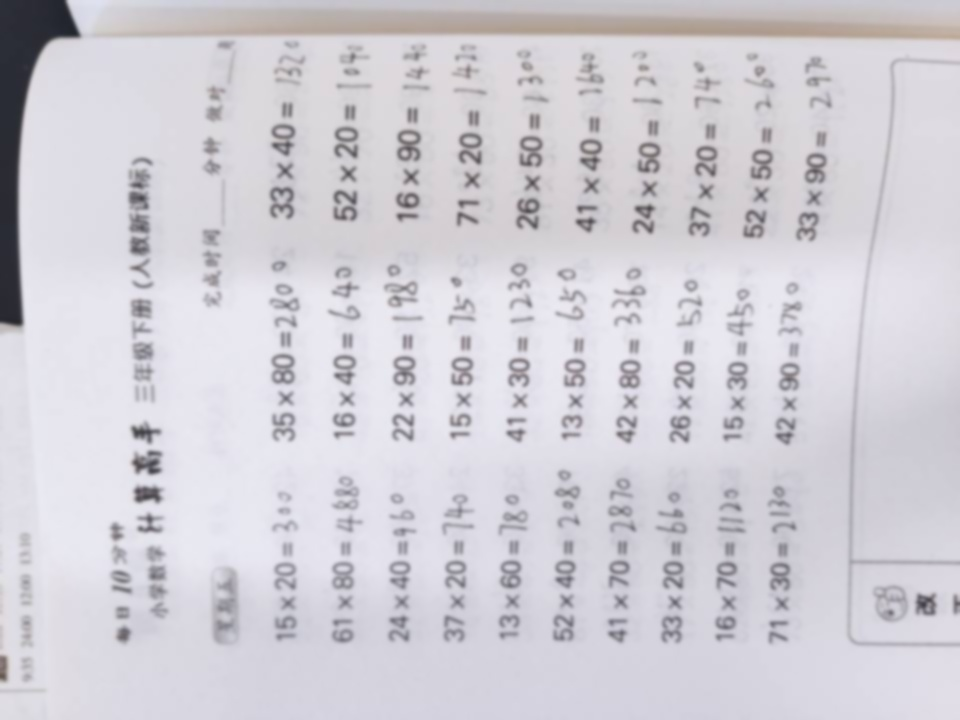equation: (373, 252, 436, 458), (260, 247, 320, 451), (603, 247, 660, 459), (550, 250, 605, 450), (438, 263, 494, 457), (752, 467, 806, 666), (793, 41, 843, 255), (324, 29, 375, 236), (388, 26, 436, 236), (447, 31, 495, 240), (324, 251, 372, 458), (262, 24, 310, 229), (618, 43, 669, 235), (596, 464, 643, 667), (319, 456, 367, 654), (542, 449, 587, 655), (501, 248, 545, 451), (683, 45, 727, 248), (647, 478, 696, 660), (379, 465, 424, 659), (508, 38, 551, 240), (769, 270, 813, 467), (490, 480, 534, 670), (666, 256, 708, 453), (742, 39, 782, 245), (702, 471, 745, 661), (438, 478, 479, 667), (570, 50, 611, 237), (715, 269, 754, 461), (266, 477, 308, 651)
